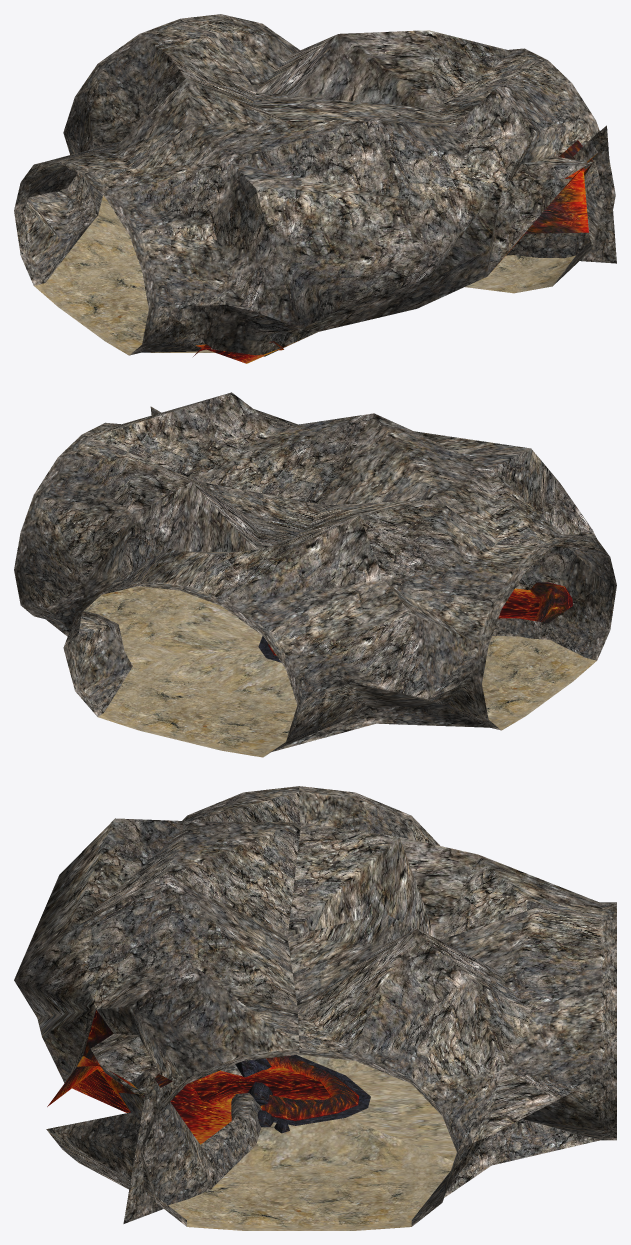
The model's file is pir_m_are_cav_threeway200_lava.fbx.
The picture shows the model from 3 angles, top to bottom: view 1: azimuth 30°, elevation 25°; view 2: azimuth 150°, elevation 25°; view 3: azimuth 270°, elevation 25°; orthographic projection. The views are drawn at different scales.
Parts seen in each view (by area): view 1: threeway200_lavaWall, threeway200_lavaFloor, rock_1, lavaCrust1, lava_hot_0; view 2: threeway200_lavaWall, threeway200_lavaFloor, lavaCrust2, lava_hot_0; view 3: threeway200_lavaWall, threeway200_lavaFloor, rock_1, lava_hot_0, lava_hot_1, rock_3, lavaCrust1, rock_2.
Part boxes in pixels (x1=…): threeway200_lavaWall: x1=14, y1=14, x2=615, y2=356; threeway200_lavaFloor: x1=34, y1=195, x2=575, y2=355; rock_1: x1=506, y1=125, x2=616, y2=263; lavaCrust1: x1=525, y1=140, x2=593, y2=233; lava_hot_0: x1=196, y1=153, x2=597, y2=363; threeway200_lavaWall: x1=14, y1=392, x2=616, y2=755; threeway200_lavaFloor: x1=84, y1=586, x2=596, y2=757; lavaCrust2: x1=530, y1=582, x2=572, y2=623; lava_hot_0: x1=498, y1=588, x2=539, y2=620; threeway200_lavaWall: x1=14, y1=786, x2=616, y2=1226; threeway200_lavaFloor: x1=168, y1=1054, x2=456, y2=1230; rock_1: x1=123, y1=1071, x2=261, y2=1223; lava_hot_0: x1=72, y1=1056, x2=231, y2=1144; lava_hot_1: x1=193, y1=1067, x2=330, y2=1105; rock_3: x1=260, y1=1055, x2=359, y2=1120; lavaCrust1: x1=47, y1=1010, x2=172, y2=1108; rock_2: x1=273, y1=1055, x2=370, y2=1125.
Size of the model in its own units: 20000 by 7927 by 18984.
Materials: 6 (6 with a texture image).
